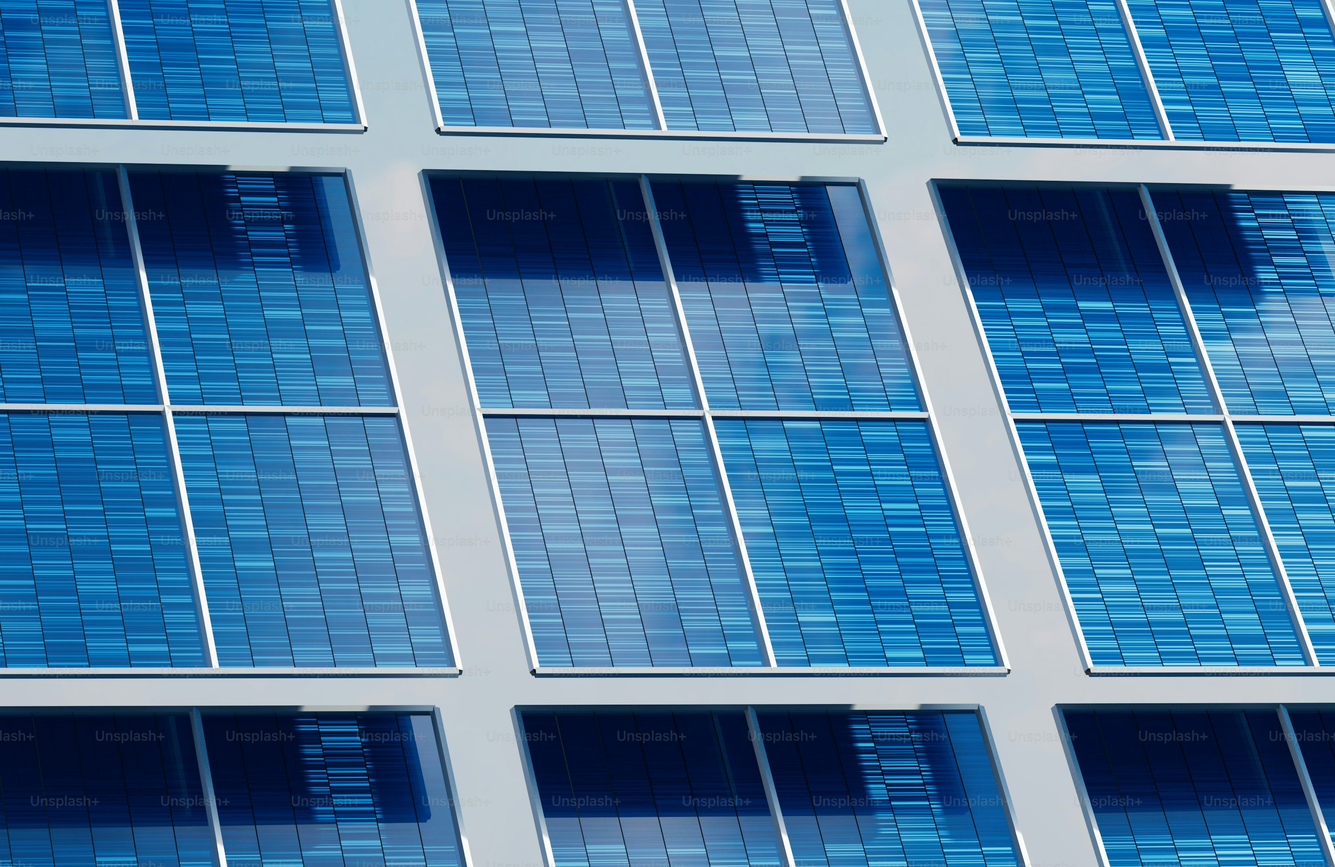glass panel: (1016, 421, 1303, 666), (716, 418, 998, 666), (176, 414, 452, 666), (486, 417, 761, 666), (940, 187, 1214, 413), (130, 172, 393, 405), (431, 178, 696, 409), (654, 182, 920, 410), (0, 413, 203, 667), (759, 711, 1022, 867), (1153, 190, 1335, 415), (1064, 711, 1323, 867), (523, 712, 781, 867), (204, 713, 463, 867), (0, 170, 158, 404), (920, 0, 1161, 139), (0, 714, 214, 867), (635, 0, 879, 133), (416, 0, 655, 129), (119, 0, 357, 123), (1129, 0, 1335, 142), (1236, 424, 1335, 664), (0, 0, 126, 118)
